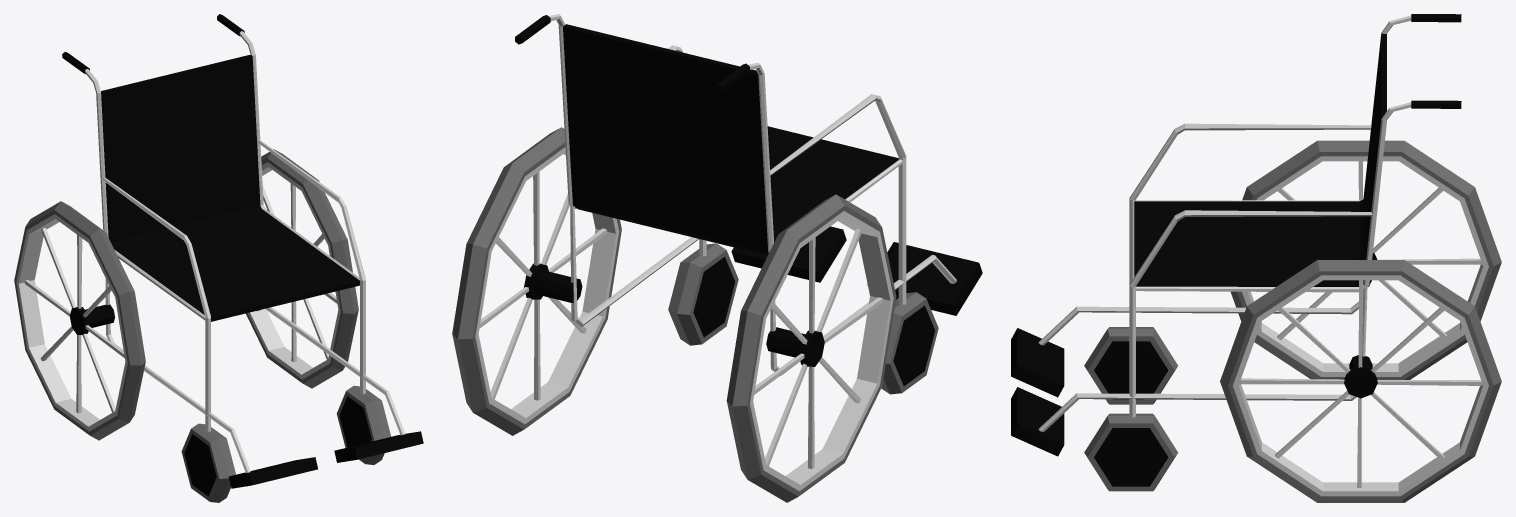
The model's file is wheelchair.fbx.
3 views of the same model, side by side, from view 1: azimuth 30°, elevation 25°; view 2: azimuth 150°, elevation 25°; view 3: azimuth 270°, elevation 25° (orthographic). The views are drawn at different scales.
Parts seen in each view (by area): view 1: H_Wheelchair; view 2: H_Wheelchair; view 3: H_Wheelchair.
Part boxes in pixels (x1=…): H_Wheelchair: x1=14, y1=14, x2=423, y2=502; H_Wheelchair: x1=452, y1=14, x2=982, y2=502; H_Wheelchair: x1=1011, y1=14, x2=1501, y2=502.
Bounding box in the file's own units: 400 × 647 × 565.
